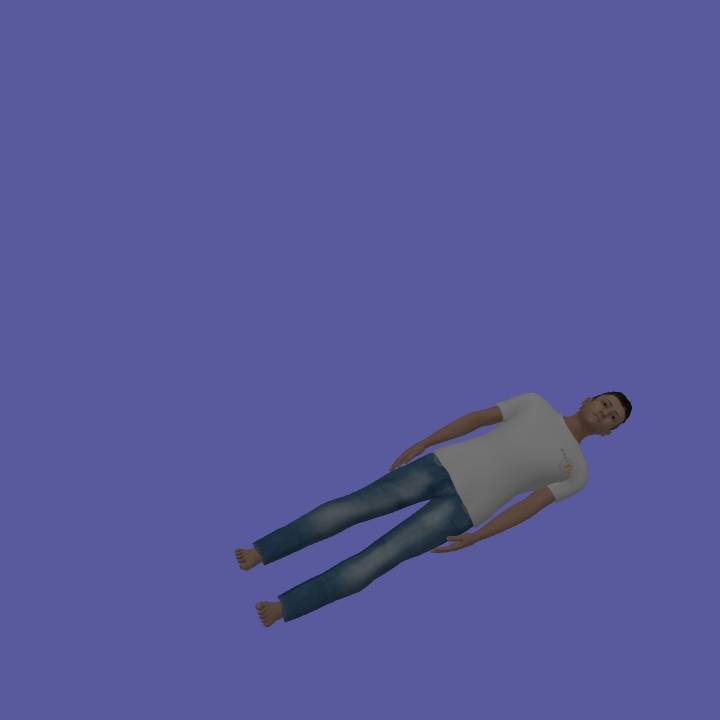victim: (232, 385, 634, 629)
